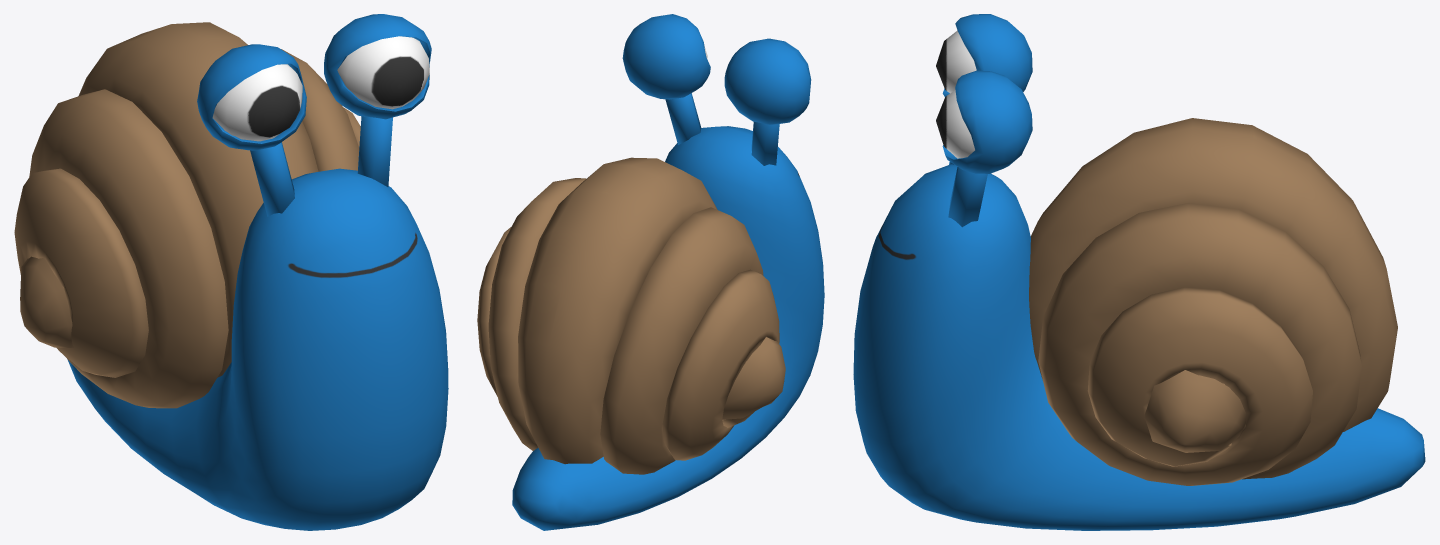
File: Chad.FBX
3 views of the same model, side by side, from view 1: azimuth 30°, elevation 25°; view 2: azimuth 150°, elevation 25°; view 3: azimuth 270°, elevation 25° (orthographic). The views are drawn at different scales.
Parts seen in each view (by area): view 1: Chad_Body, Chad_Shell, Chad_Eyes; view 2: Chad_Shell, Chad_Body, Chad_Eyes; view 3: Chad_Shell, Chad_Body, Chad_Eyes.
Part boxes in pixels (x1=…): Chad_Body: x1=67, y1=168, x2=448, y2=530; Chad_Shell: x1=14, y1=22, x2=360, y2=408; Chad_Eyes: x1=197, y1=14, x2=431, y2=216; Chad_Shell: x1=477, y1=157, x2=785, y2=474; Chad_Body: x1=512, y1=126, x2=824, y2=530; Chad_Eyes: x1=622, y1=14, x2=811, y2=165; Chad_Shell: x1=1029, y1=118, x2=1397, y2=485; Chad_Body: x1=853, y1=164, x2=1425, y2=530; Chad_Eyes: x1=936, y1=14, x2=1032, y2=227.
Bounding box in the file's own units: 44.35 × 61.37 × 53.33.
1 material, 1 textured.
